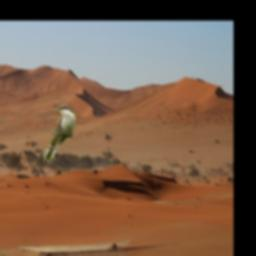Cuckoo: (42, 104, 75, 163)
